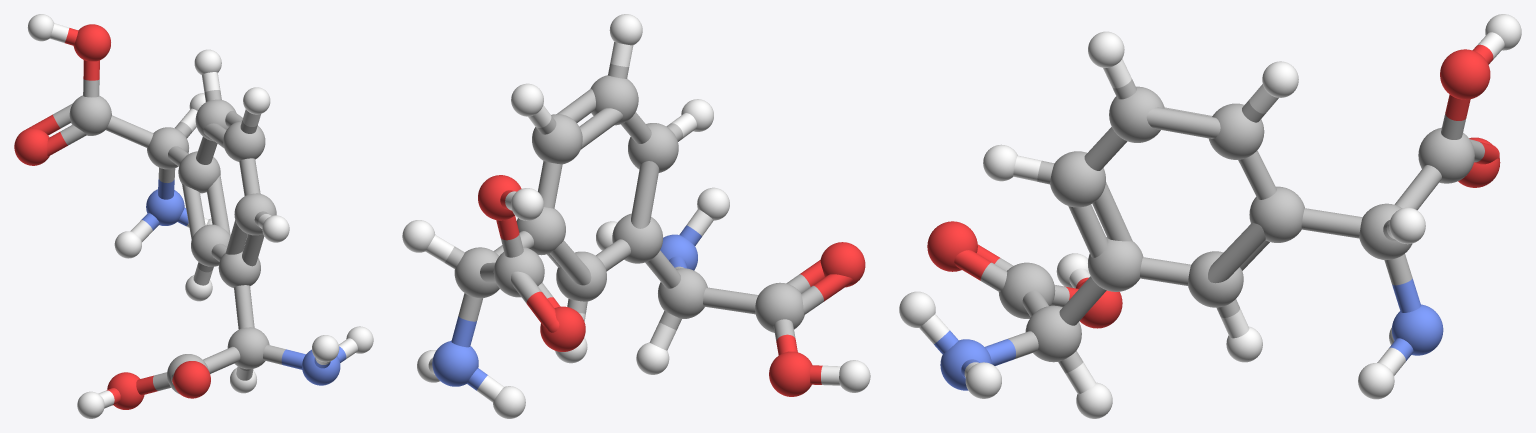
The model's file is asset.glb.
The picture shows the model from 3 angles, left to right: view 1: azimuth 30°, elevation 25°; view 2: azimuth 150°, elevation 25°; view 3: azimuth 270°, elevation 25°; orthographic projection. The views are drawn at different scales.
Visible parts, largest first — view 1: C25_Atom, C3_Atom, C8_Atom, C19_Atom, O14_Atom, C20_Atom, C5_Atom, O27_Atom, C17_Atom, C7_Atom, O26_Atom, N22_Atom (+26 smaller); view 2: C13_Atom, C1_Atom, C8_Atom, N22_Atom, C5_Atom, O15_Atom, C7_Atom, C3_Atom, C20_Atom, C19_Atom, C25_Atom, C17_Atom (+31 smaller); view 3: C5_Atom, C19_Atom, C7_Atom, C1_Atom, C8_Atom, C25_Atom, C3_Atom, O27_Atom, C13_Atom, C17_Atom, N22_Atom, O14_Atom (+29 smaller).
Boxes of the visible parts, x1=… form: C25_Atom: x1=69, y1=95, x2=111, y2=135; C3_Atom: x1=223, y1=120, x2=265, y2=161; C8_Atom: x1=227, y1=327, x2=269, y2=369; C19_Atom: x1=178, y1=151, x2=220, y2=193; O14_Atom: x1=173, y1=361, x2=210, y2=398; C20_Atom: x1=147, y1=127, x2=188, y2=169; C5_Atom: x1=234, y1=193, x2=276, y2=235; O27_Atom: x1=73, y1=24, x2=110, y2=61; C17_Atom: x1=191, y1=224, x2=230, y2=266; C7_Atom: x1=218, y1=251, x2=260, y2=287; O26_Atom: x1=14, y1=128, x2=49, y2=165; N22_Atom: x1=146, y1=189, x2=184, y2=225; C13_Atom: x1=755, y1=282, x2=804, y2=332; C1_Atom: x1=532, y1=114, x2=582, y2=164; C8_Atom: x1=658, y1=268, x2=707, y2=318; N22_Atom: x1=432, y1=340, x2=478, y2=386; C5_Atom: x1=628, y1=123, x2=678, y2=172; O15_Atom: x1=769, y1=351, x2=812, y2=396; C7_Atom: x1=612, y1=213, x2=662, y2=263; C3_Atom: x1=590, y1=75, x2=638, y2=125; C20_Atom: x1=454, y1=247, x2=499, y2=298; C19_Atom: x1=516, y1=207, x2=565, y2=255; C25_Atom: x1=493, y1=247, x2=544, y2=297; C17_Atom: x1=556, y1=251, x2=606, y2=301; C5_Atom: x1=1050, y1=151, x2=1105, y2=207; C19_Atom: x1=1249, y1=186, x2=1304, y2=242; C7_Atom: x1=1088, y1=237, x2=1143, y2=291; C1_Atom: x1=1208, y1=103, x2=1264, y2=159; C8_Atom: x1=1025, y1=305, x2=1081, y2=362; C25_Atom: x1=1418, y1=127, x2=1474, y2=183; C3_Atom: x1=1109, y1=86, x2=1164, y2=142; O27_Atom: x1=1440, y1=49, x2=1490, y2=99; C13_Atom: x1=998, y1=262, x2=1055, y2=318; C17_Atom: x1=1188, y1=251, x2=1243, y2=307; N22_Atom: x1=1392, y1=304, x2=1443, y2=355; O14_Atom: x1=927, y1=221, x2=977, y2=271.
Bounding box in the file's own units: 5.56 × 6.04 × 8.61.
